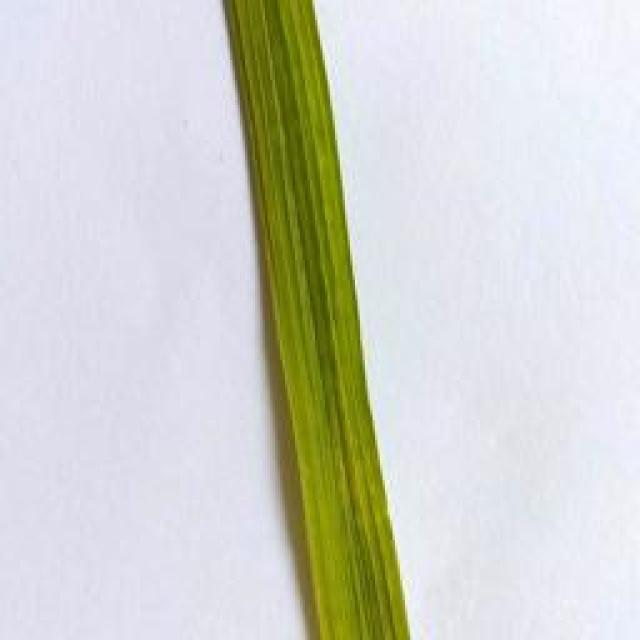Healthy-Plant: (218, 0, 416, 640)
